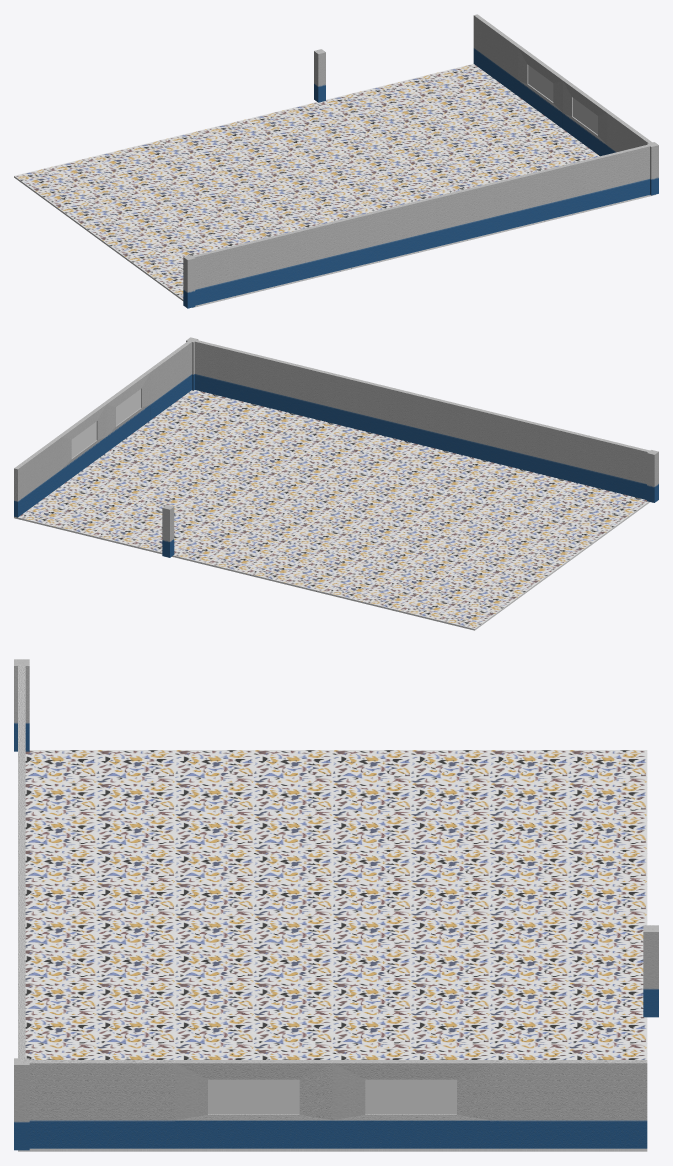
The picture shows the model from 3 angles, top to bottom: view 1: azimuth 30°, elevation 25°; view 2: azimuth 150°, elevation 25°; view 3: azimuth 270°, elevation 25°; orthographic projection. The views are drawn at different scales.
Visible parts, largest first — view 1: 103; view 2: 103; view 3: 103.
Part boxes in pixels (bbox=[...]): 103: bbox=[14, 14, 658, 308]; 103: bbox=[14, 337, 658, 630]; 103: bbox=[14, 659, 658, 1151].
Bounding box in the file's own units: 6100 × 620 × 4100.
3 materials, 2 textured.
